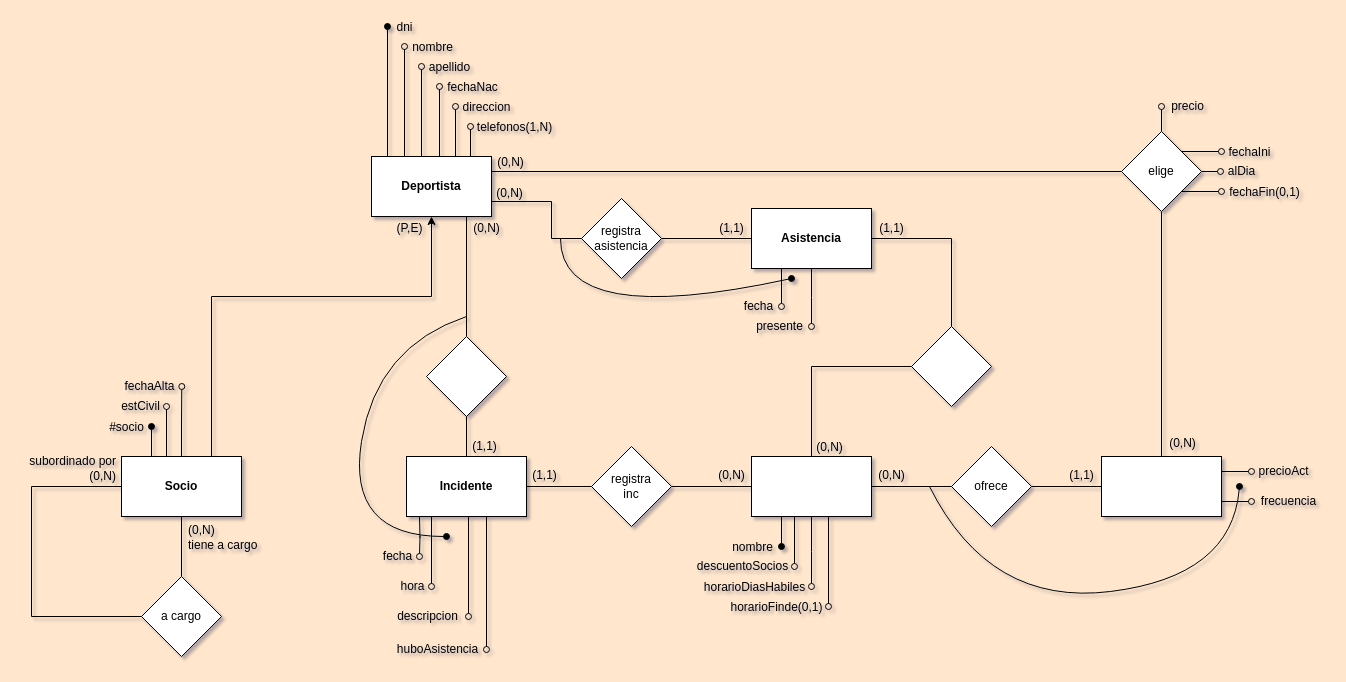
Some shapes in this 1346 by 682 pixel diagram are drawn without their labels. Here are the shapes that lost their labels. From the top down, the centre of each, then its label:
At pixel 466 376: "sufre".
At pixel 951 366: "se asiste".
At pixel 811 486: "Deporte".
At pixel 1161 486: "Abono".
